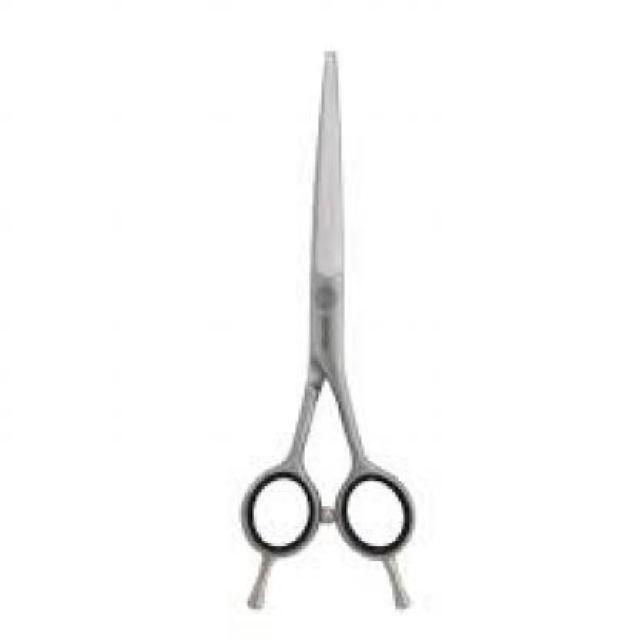scissors: (236, 51, 421, 614)
